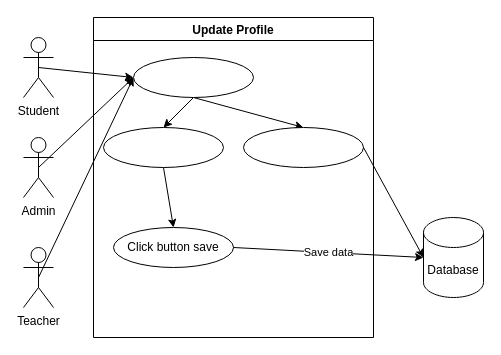
Image size: 501x355. Some labels were removed from this diagram. The centre of each missing label's shape, as x and y in pixels:
"Choose avatar" goes at (x=303, y=147).
"Input information" goes at (x=163, y=147).
"Navigate to Profile" goes at (x=193, y=77).
